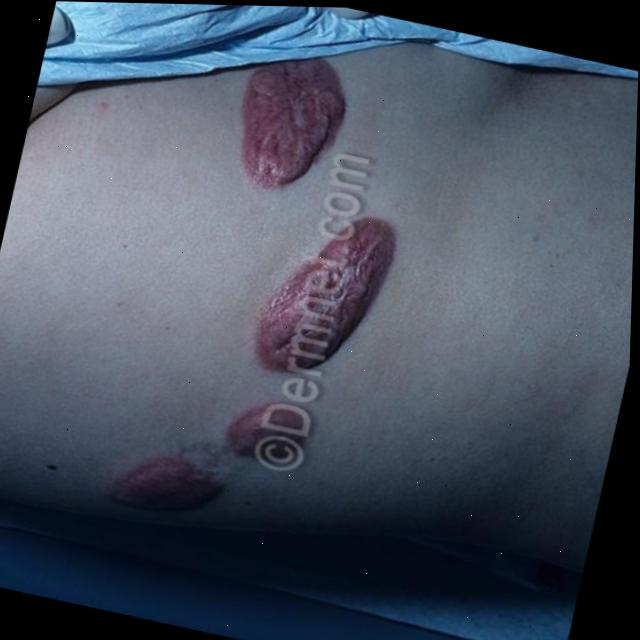Eczema: (126, 62, 406, 547)
